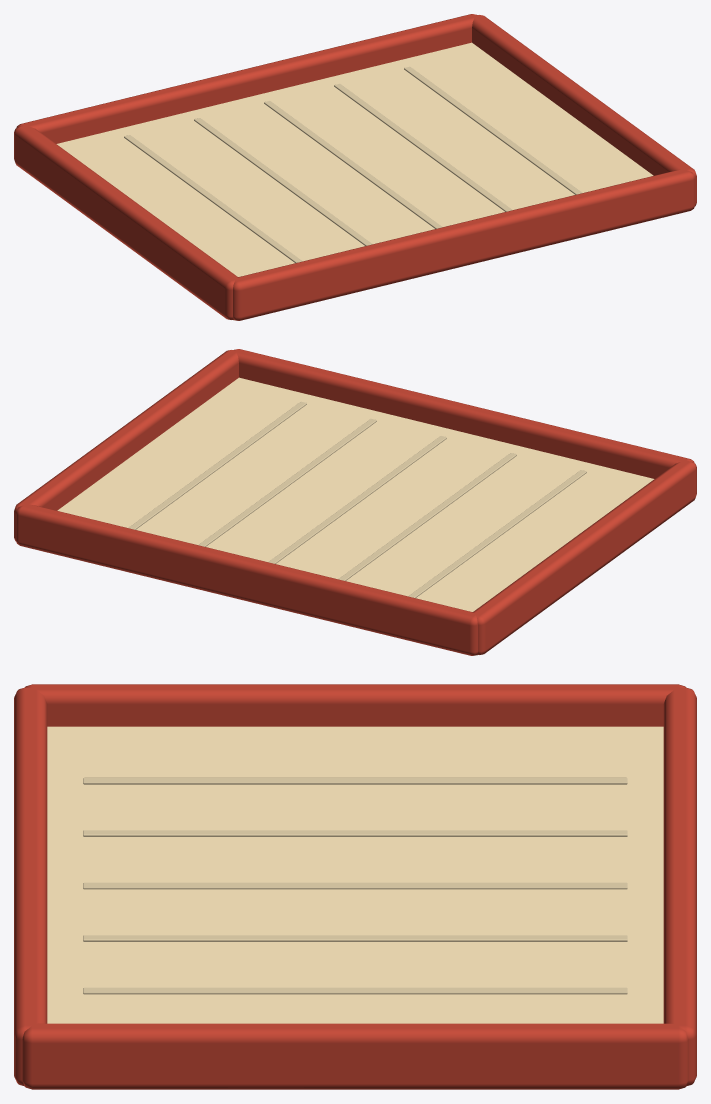
The model's file is tray.glb.
The picture shows the model from 3 angles, top to bottom: view 1: azimuth 30°, elevation 25°; view 2: azimuth 150°, elevation 25°; view 3: azimuth 270°, elevation 25°; orthographic projection. The views are drawn at different scales.
Parts seen in each view (by area): view 1: tray; view 2: tray; view 3: tray.
Part boxes in pixels (x1,y1,x2,y2): tray: (14, 14, 696, 320); tray: (14, 349, 696, 655); tray: (14, 684, 696, 1089).
Size of the model in its own units: 0.875 by 0.0725 by 0.715.
